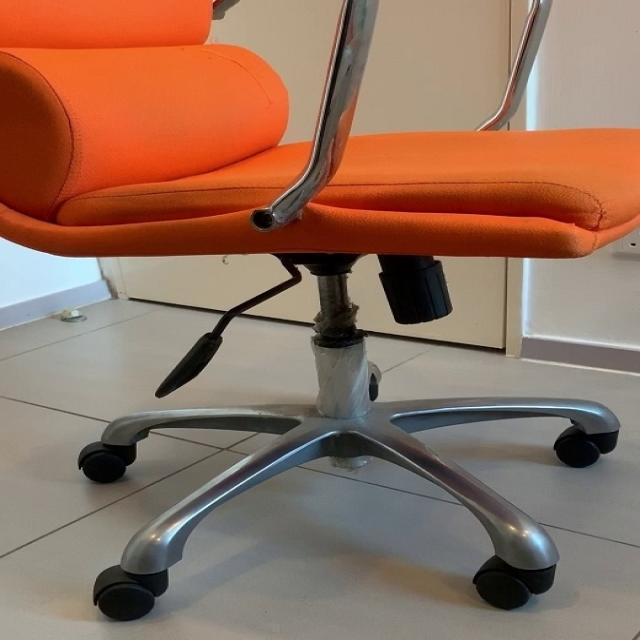chair: (3, 1, 640, 623)
